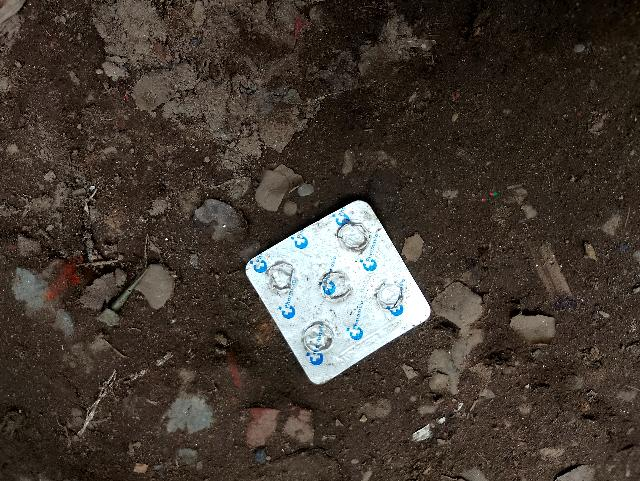medicine: (245, 199, 433, 391)
